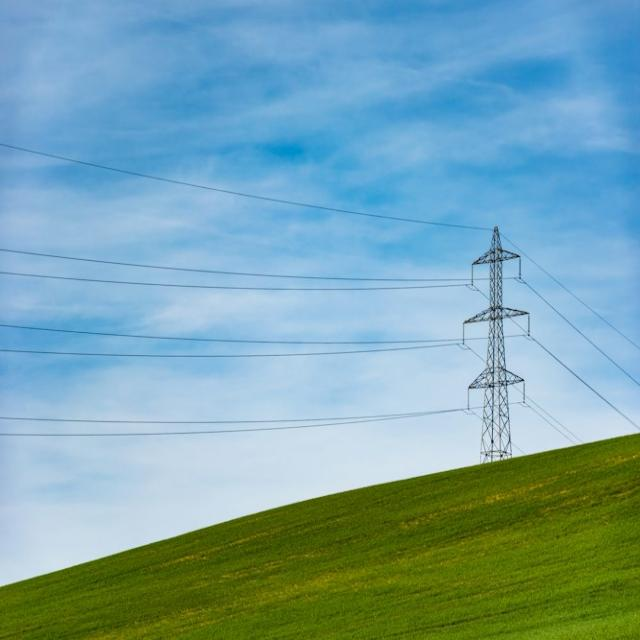transmission tower: (463, 212, 539, 506)
